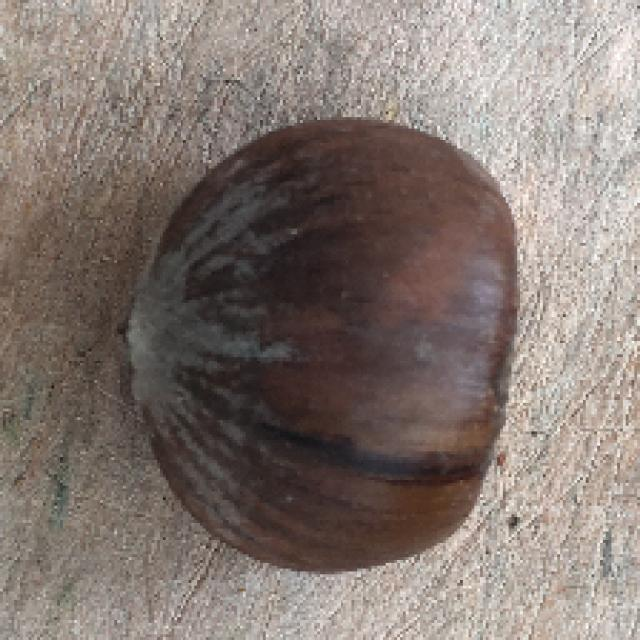DamagedHazelnut: (120, 119, 522, 569)
